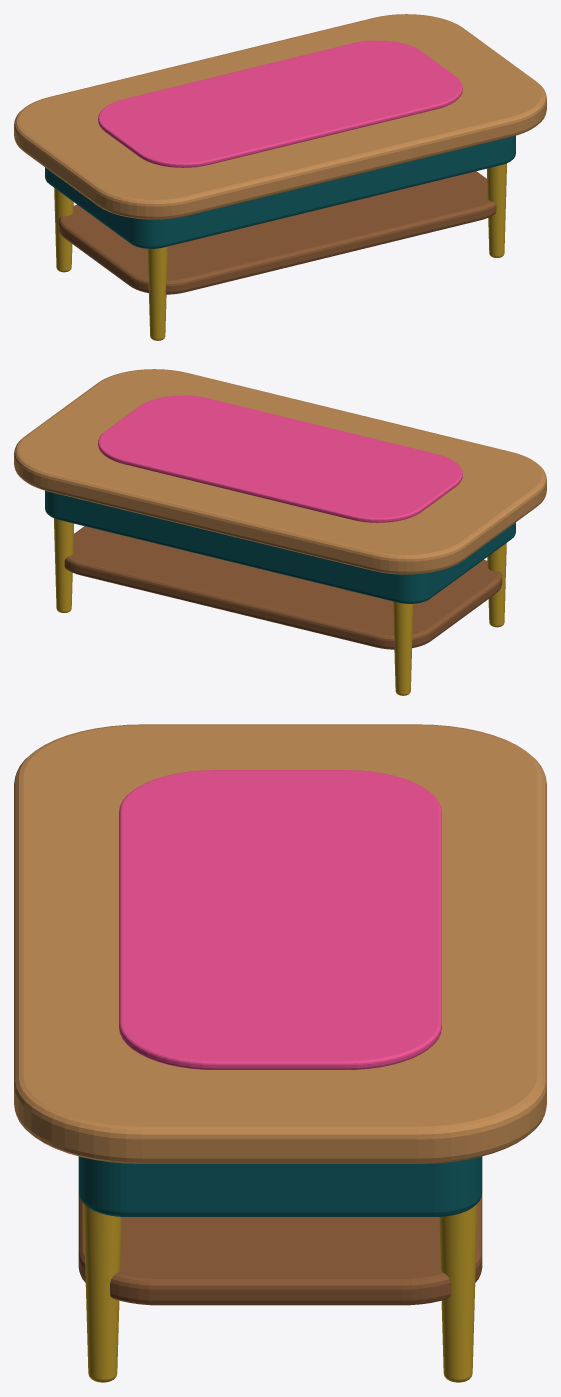
File: lobby-coffee-table.glb
The picture shows the model from 3 angles, top to bottom: view 1: azimuth 30°, elevation 25°; view 2: azimuth 150°, elevation 25°; view 3: azimuth 270°, elevation 25°; orthographic projection. The views are drawn at different scales.
Visible parts, largest first — view 1: top, top.inlay, shelf, apron, leg.l.f, leg.r.f, leg.l.b; view 2: top, top.inlay, shelf, apron, leg.l.b, leg.r.b, leg.l.f; view 3: top, top.inlay, shelf, apron, leg.r.b, leg.r.f.
Boxes of the visible parts, bbox=[...] form: top: bbox=[14, 14, 546, 219]; top.inlay: bbox=[98, 40, 462, 167]; shelf: bbox=[58, 171, 496, 294]; apron: bbox=[45, 135, 515, 248]; leg.l.f: bbox=[147, 246, 167, 340]; leg.r.f: bbox=[487, 163, 506, 257]; leg.l.b: bbox=[54, 188, 73, 272]; top: bbox=[14, 369, 546, 574]; top.inlay: bbox=[98, 395, 462, 522]; shelf: bbox=[64, 526, 502, 649]; apron: bbox=[45, 490, 515, 603]; leg.l.b: bbox=[393, 601, 413, 695]; leg.r.b: bbox=[54, 518, 73, 612]; leg.l.f: bbox=[487, 543, 506, 627]; top: bbox=[14, 724, 546, 1163]; top.inlay: bbox=[119, 770, 441, 1069]; shelf: bbox=[78, 1194, 482, 1305]; apron: bbox=[78, 1156, 482, 1216]; leg.r.b: bbox=[439, 1203, 477, 1382]; leg.r.f: bbox=[83, 1203, 121, 1382].
Bounding box in the file's own units: 1.2 × 0.418 × 0.66.
